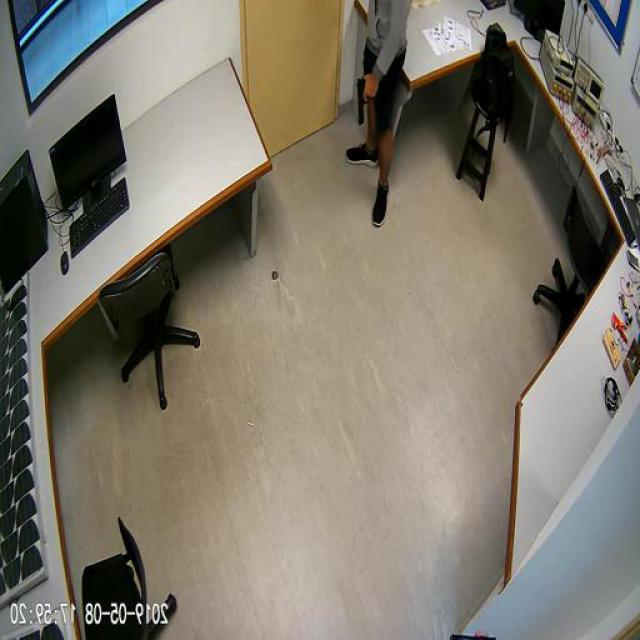Gun: (358, 75, 374, 126)
